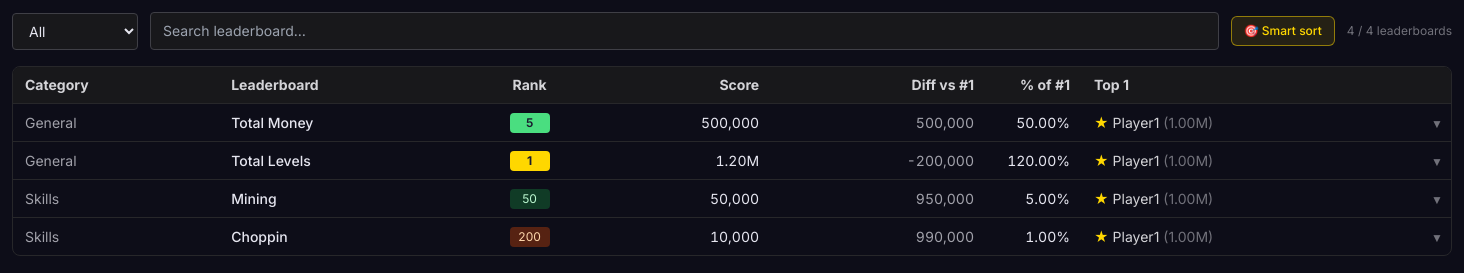
Test case: LeaderboardsTable › filters by search input
This screenshot has width=1464, height=273.
In the field with placeholder "Search leaderboard…": coordinates (684, 31) [150,12,1219,50], type "Money"
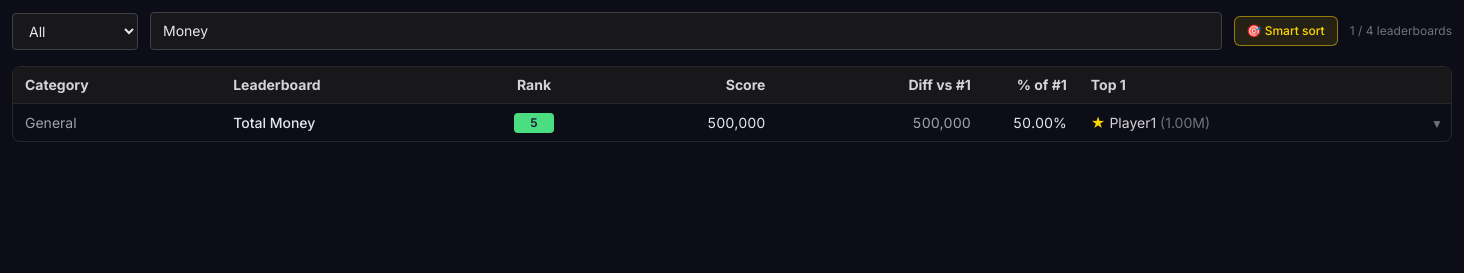
Expected: the text "Total Money" is shown, [221,104,486,141]
Expected: the text "Total Levels" is gone
